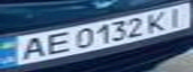0: (72, 26, 96, 51)
1: (93, 21, 115, 46)
2: (124, 15, 151, 38)
3: (109, 18, 130, 43)
A: (12, 34, 51, 62)
E: (39, 29, 75, 56)
I: (160, 4, 193, 28)
K: (142, 9, 175, 34)
